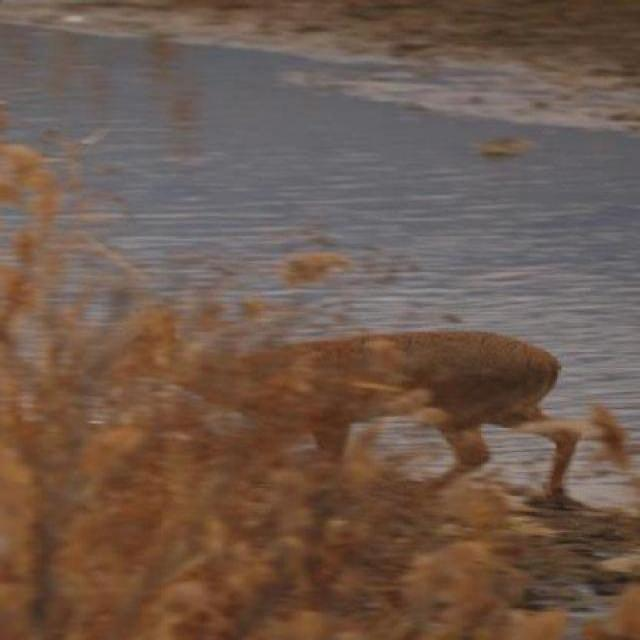deer: (92, 316, 638, 512)
